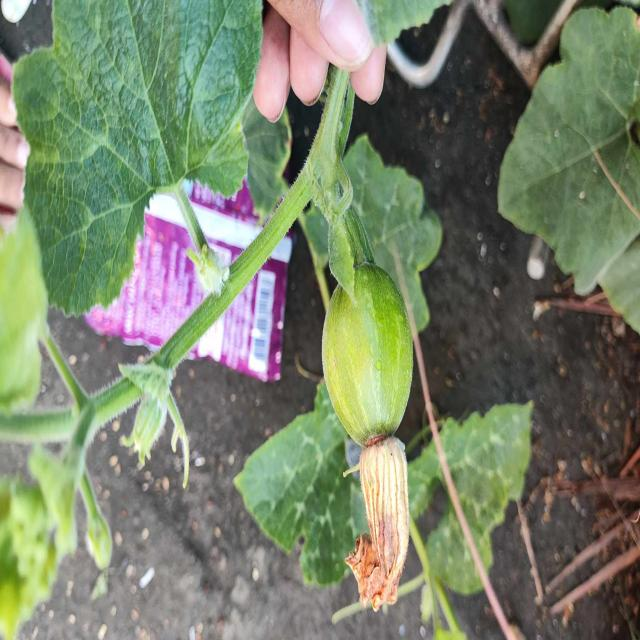flower: (341, 446, 411, 616)
squash: (320, 251, 416, 451)
